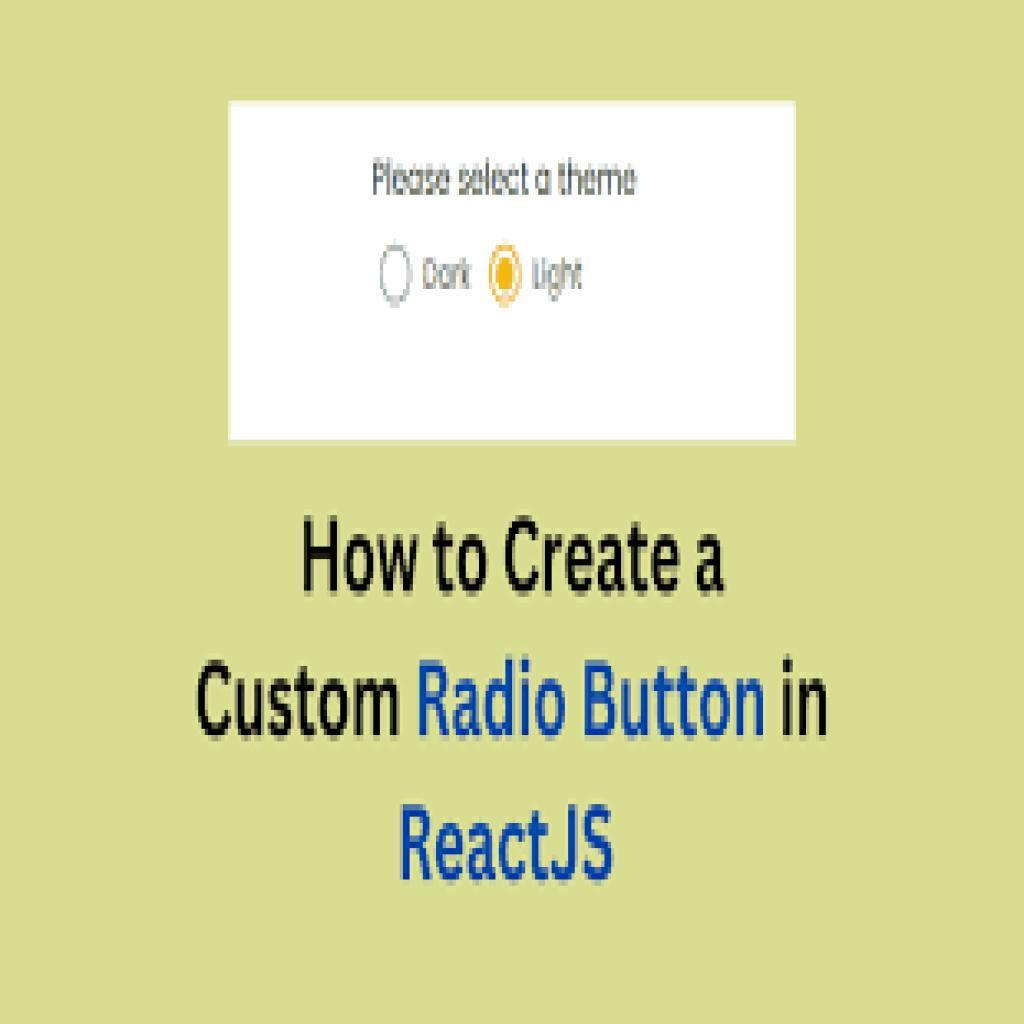label: (528, 252, 589, 302), (417, 252, 477, 300)
radio: (487, 241, 522, 312), (378, 243, 413, 309)
